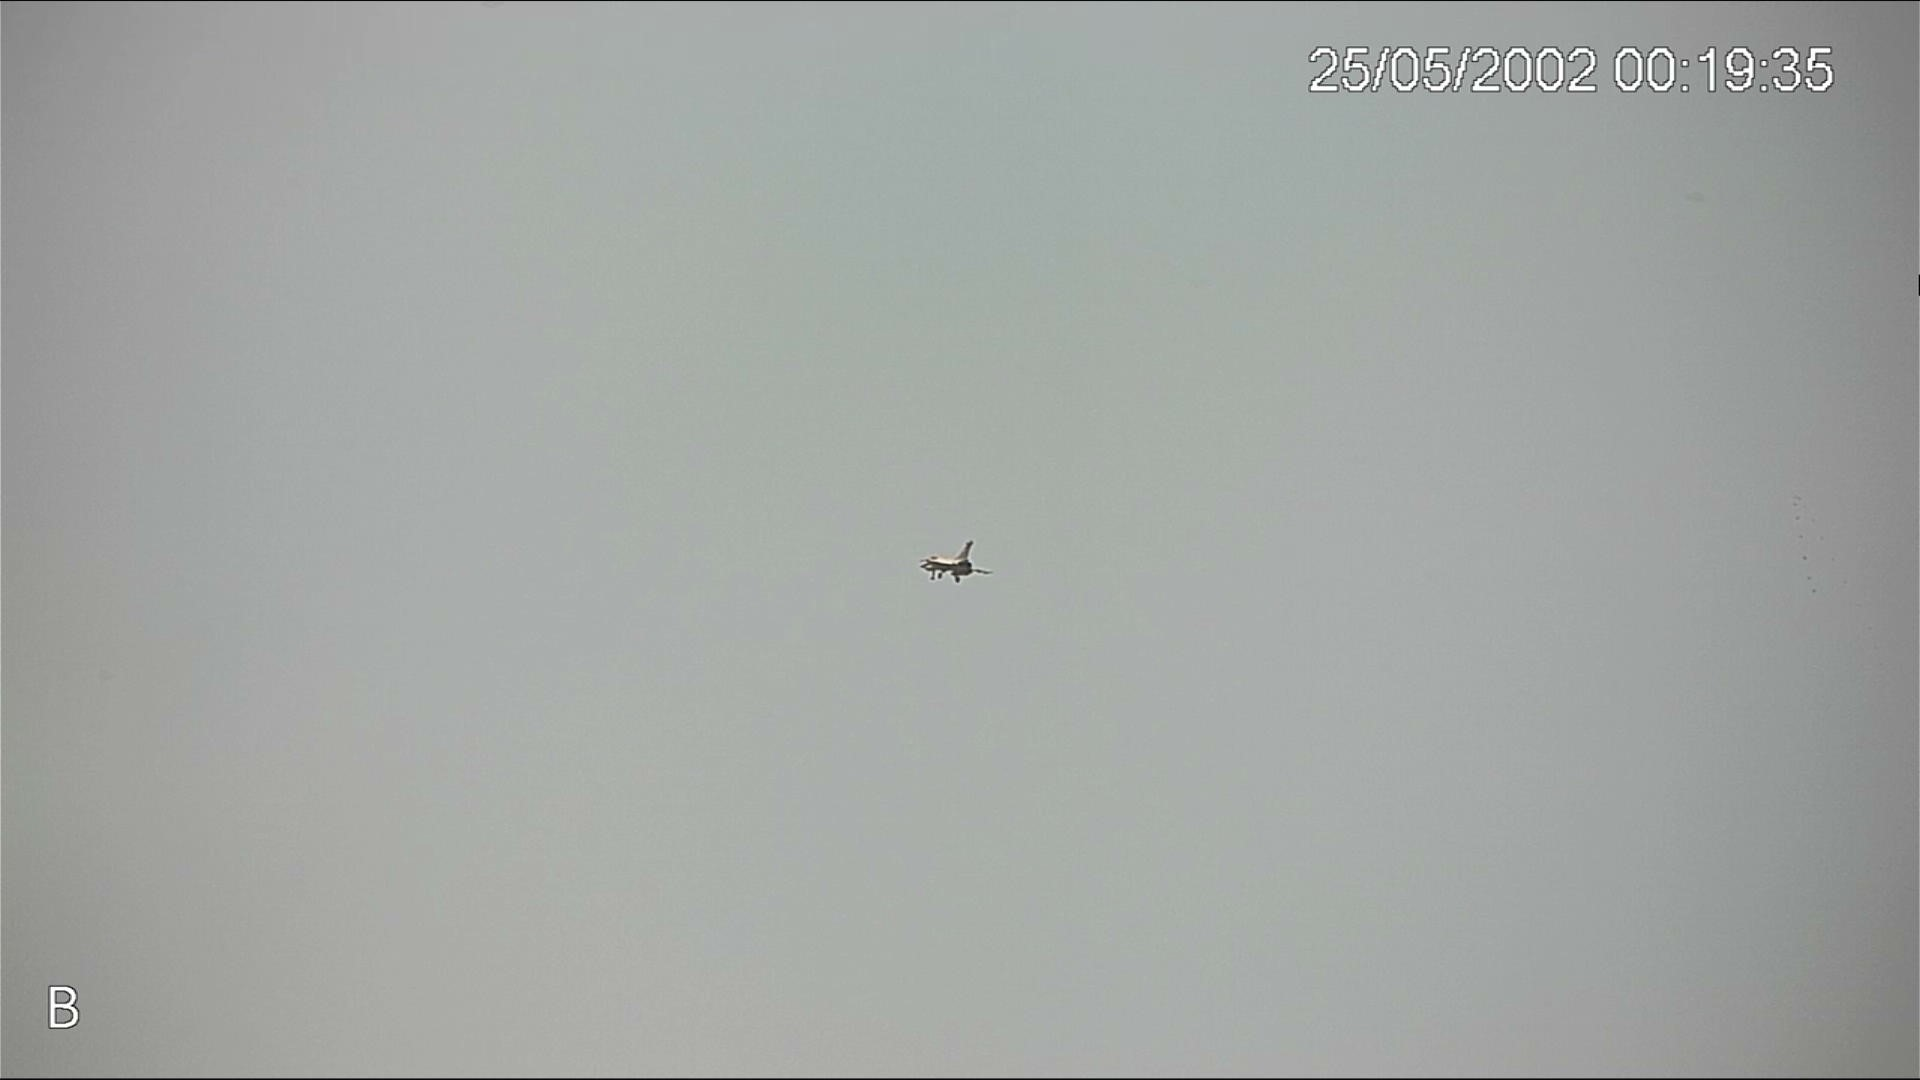SU_30: (918, 535, 994, 587)
